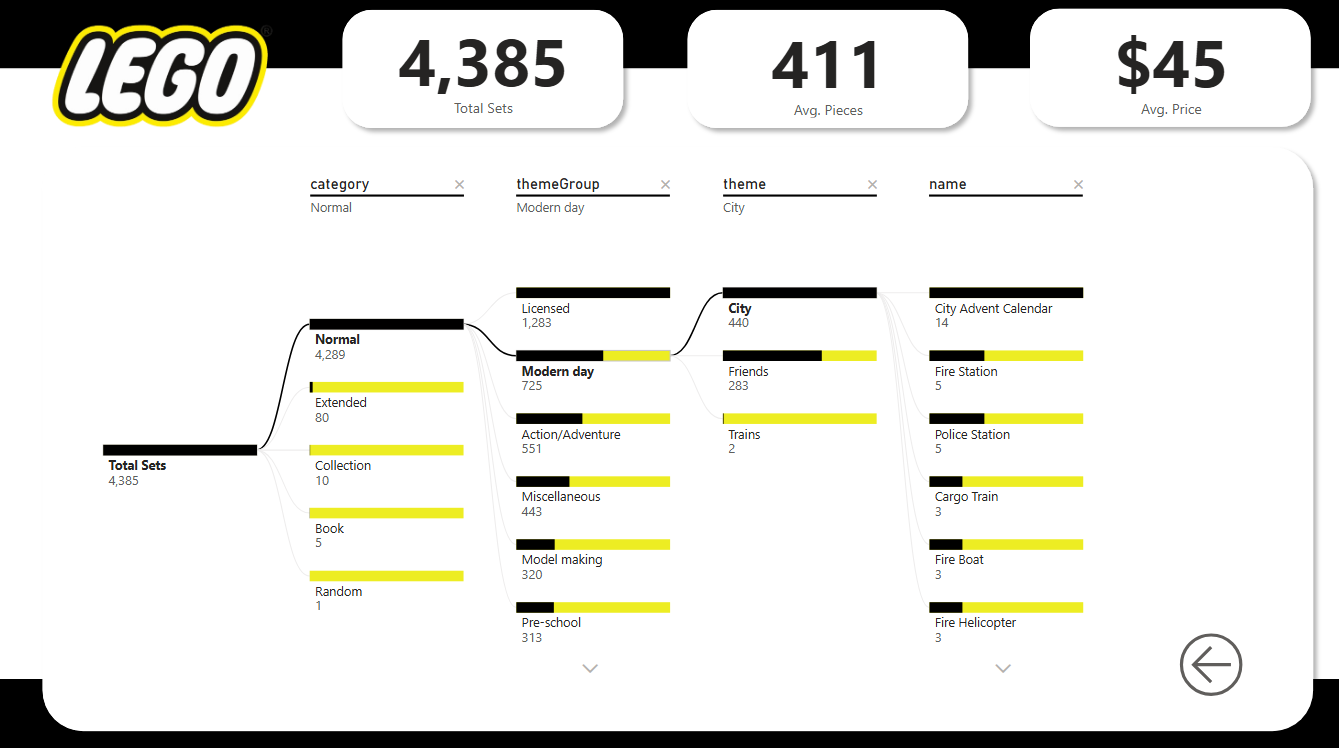

This screenshot's page, from the dashboard's own definition file:
{"tool":"powerbi","page":{"name":"Set Explore","canvas":[1280,720],"ordinal":2},"visuals":[{"type":"shape","box":[0,0,1279.9,720.2],"z":0},{"type":"shape","box":[0,0,1279.9,71.2],"z":1000},{"type":"shape","box":[0,649,1279.9,71.2],"z":2000},{"type":"shape","box":[322.2,5.7,283.8,130],"z":3000},{"type":"shape","box":[649,5.7,283.8,130],"z":4000},{"type":"shape","box":[973.5,4.5,283.8,130],"z":5000},{"type":"image","box":[15.8,0,294,145.9],"z":6000},{"type":"card","fields":{"Values":["Measure Table.Total Sets"]},"box":[350.5,18.1,228.4,101.8],"z":7000},{"type":"card","fields":{"Values":["Measure Table.Avg. Pieces"]},"box":[677.3,20.4,228.4,101.8],"z":8000},{"type":"card","fields":{"Values":["Measure Table.Avg. Price"]},"box":[1011.9,18.1,208,104],"z":9000},{"type":"simpleImageEBC4593F96F1425FB3D84C5BF02B5075","fields":{"imageURL":["lego_sets.imageURL"]},"box":[927.1,281.5,5.7,299.6],"z":10000},{"type":"shape","box":[38.4,135.7,1221.1,571],"z":11000},{"type":"decompositionTreeVisual","fields":{"Analyze":["Measure Table.Total Sets"],"ExplainBy":["lego_sets.category","lego_sets.themeGroup","lego_sets.theme","lego_sets.name"]},"box":[74.4,154.9,1131.1,531.9],"z":12000},{"type":"actionButton","box":[1116,598.1,81.4,74.6],"z":13000}]}

Visuals, with their boxes in screenshot pixels (x1, y1, x2, y2), scaled from the page's 1280x720 canvas onto the 1339x748 screenshot:
shape: box(0, 0, 1338, 747)
shape: box(0, 0, 1338, 74)
shape: box(0, 674, 1338, 747)
shape: box(337, 6, 634, 141)
shape: box(679, 6, 976, 141)
shape: box(1018, 5, 1315, 140)
image: box(17, 0, 324, 152)
card - Measure Table.Total Sets: box(367, 19, 606, 125)
card - Measure Table.Avg. Pieces: box(709, 21, 947, 127)
card - Measure Table.Avg. Price: box(1059, 19, 1276, 127)
simpleImageEBC4593F96F1425FB3D84C5BF02B5075 - lego_sets.imageURL: box(970, 292, 976, 604)
shape: box(40, 141, 1318, 734)
decompositionTreeVisual - Measure Table.Total Sets x lego_sets.category: box(78, 161, 1261, 714)
actionButton: box(1167, 621, 1253, 699)
